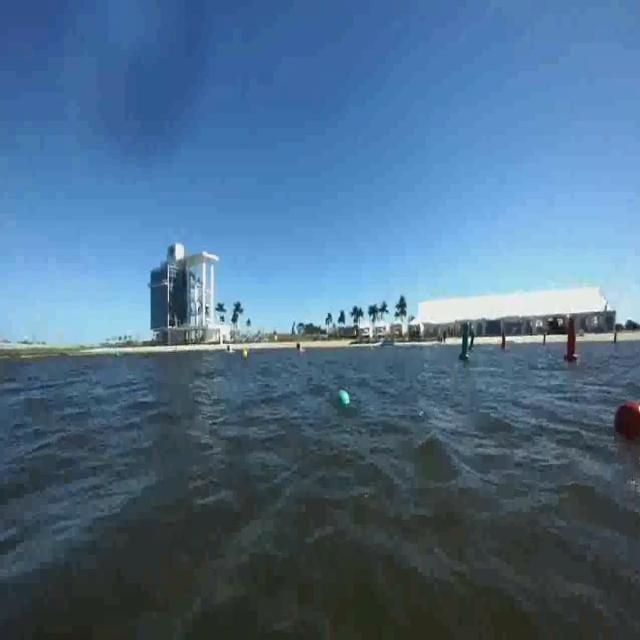green-buoy: (341, 391, 350, 406)
green-column-buoy: (458, 324, 472, 362)
red-buoy: (615, 397, 640, 440)
red-column-buoy: (564, 319, 580, 364)
yellow-buoy: (240, 348, 248, 361)
